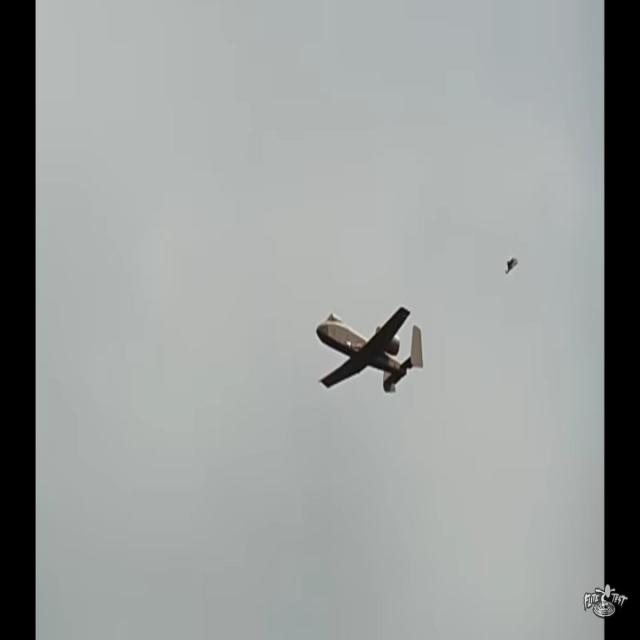iha: (346, 336, 392, 364)
